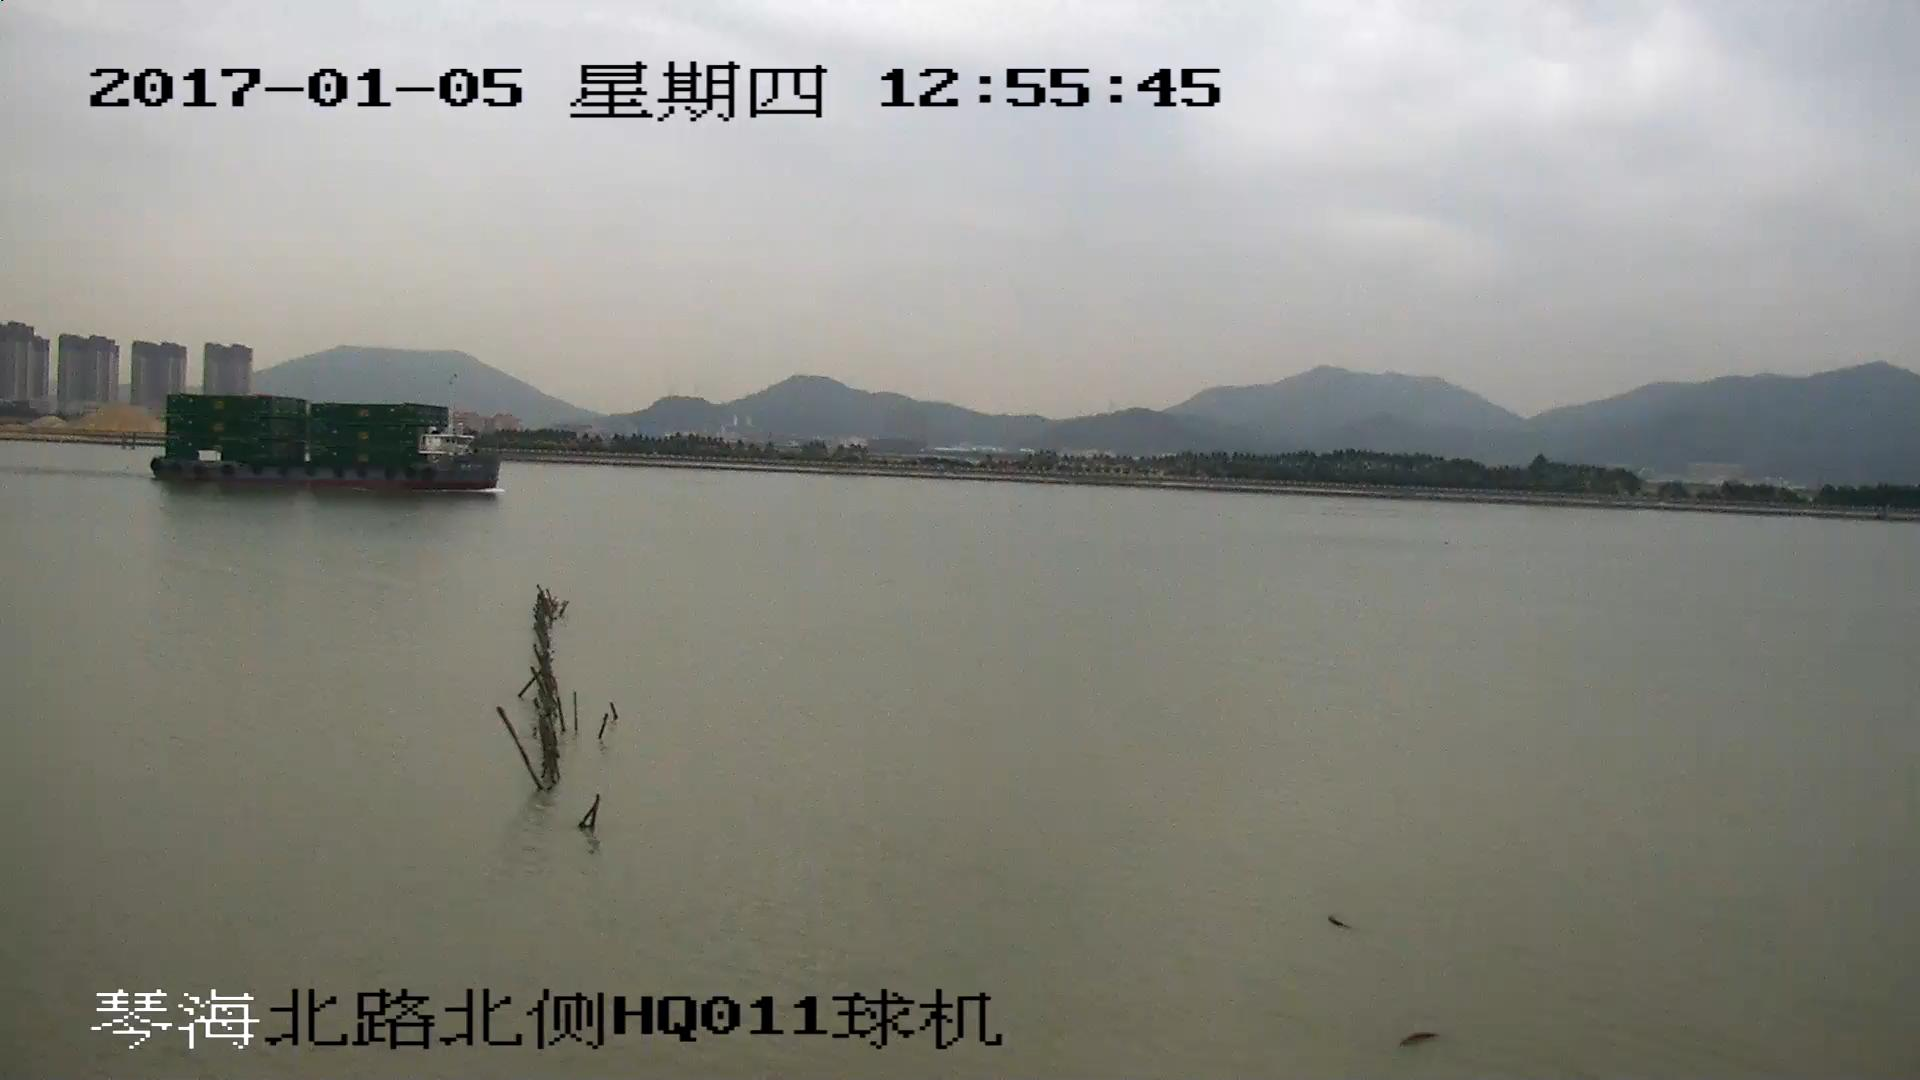container ship: (154, 392, 498, 494)
